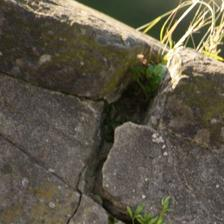Crack: (52, 0, 106, 98), (73, 45, 152, 64), (86, 121, 119, 159)
